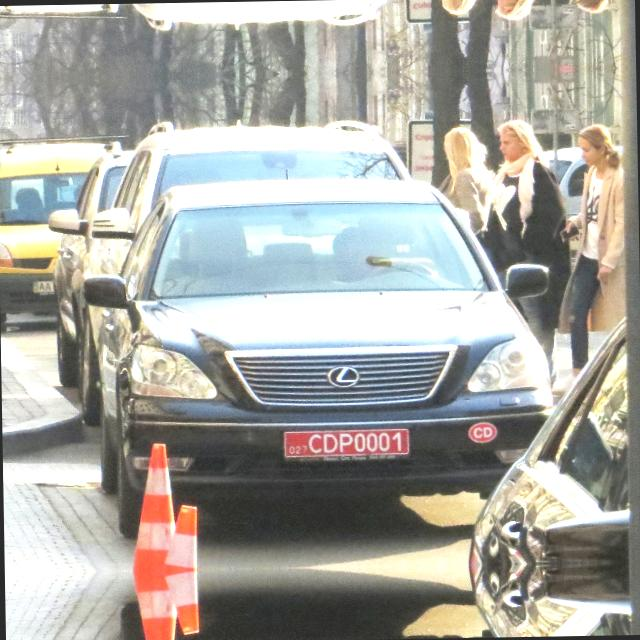diplomatic: (276, 421, 416, 464)
